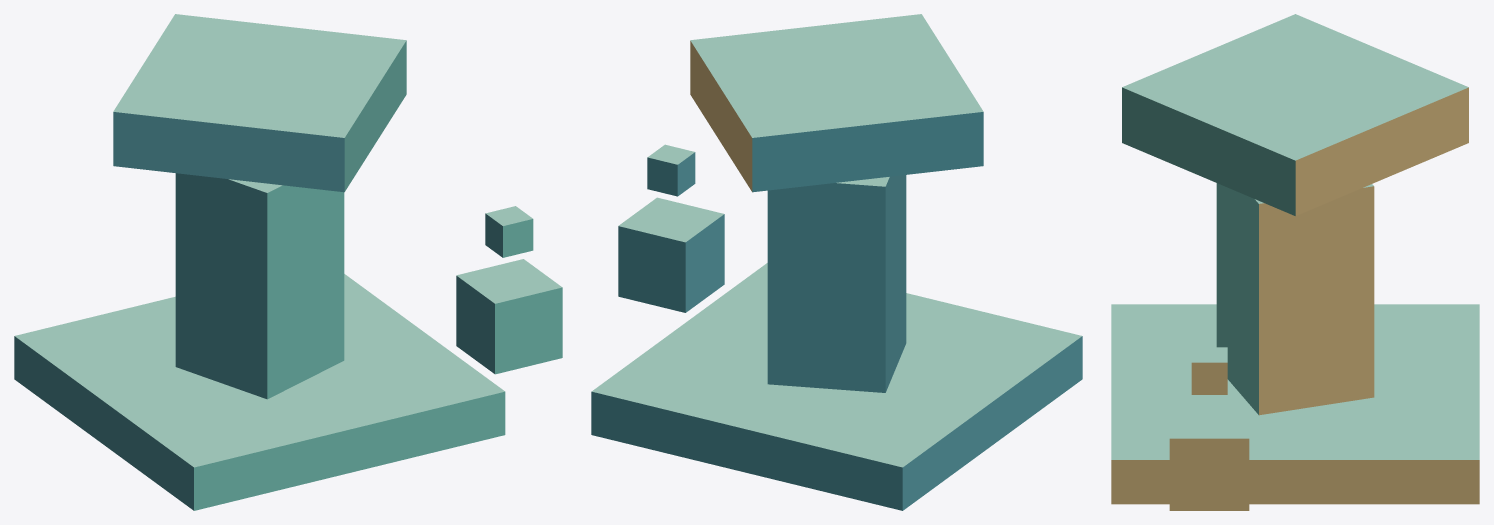
File: tower.glb
3 renders of one model, left to right at view 1: azimuth 30°, elevation 25°; view 2: azimuth 150°, elevation 25°; view 3: azimuth 270°, elevation 25°, orthographic. The views are drawn at different scales.
Parts seen in each view (by area): view 1: Base, Crown, Shaft, Satellite, Satellite top; view 2: Base, Crown, Shaft, Satellite, Satellite top; view 3: Base, Crown, Shaft, Satellite, Satellite top.
Part boxes in pixels (left/top/right/bottom): Base: left=14, top=274, right=505, bottom=510; Crown: left=113, top=14, right=406, bottom=192; Shaft: left=175, top=173, right=344, bottom=399; Satellite: left=456, top=259, right=562, bottom=374; Satellite top: left=485, top=206, right=533, bottom=257; Base: left=591, top=263, right=1082, bottom=510; Crown: left=690, top=14, right=983, bottom=192; Shaft: left=767, top=175, right=906, bottom=392; Satellite: left=618, top=197, right=724, bottom=312; Satellite top: left=647, top=144, right=695, bottom=196; Base: left=1111, top=304, right=1479, bottom=504; Crown: left=1122, top=14, right=1468, bottom=215; Shaft: left=1216, top=183, right=1374, bottom=415; Satellite: left=1169, top=405, right=1249, bottom=510; Satellite top: left=1191, top=347, right=1227, bottom=394.
Size of what is drawn, in the model's own units: 3.83 by 3.05 by 3.
